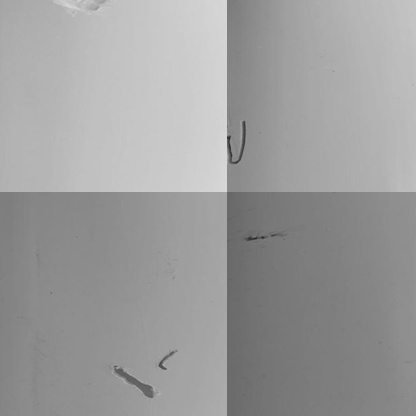fengxi: (225, 119, 248, 168)
sunshang: (111, 362, 154, 399), (53, 1, 108, 16), (158, 342, 179, 373)
